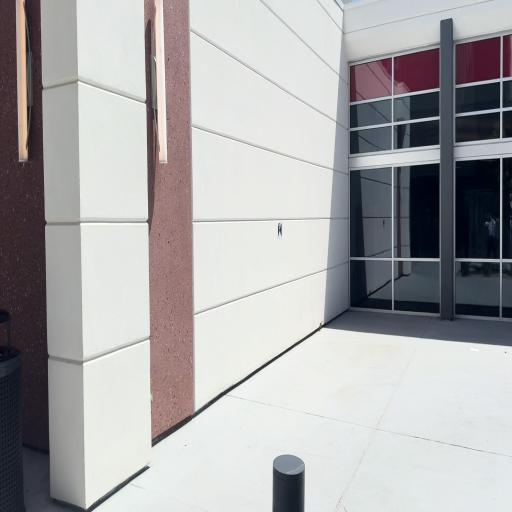target0: (278, 221, 282, 239)
